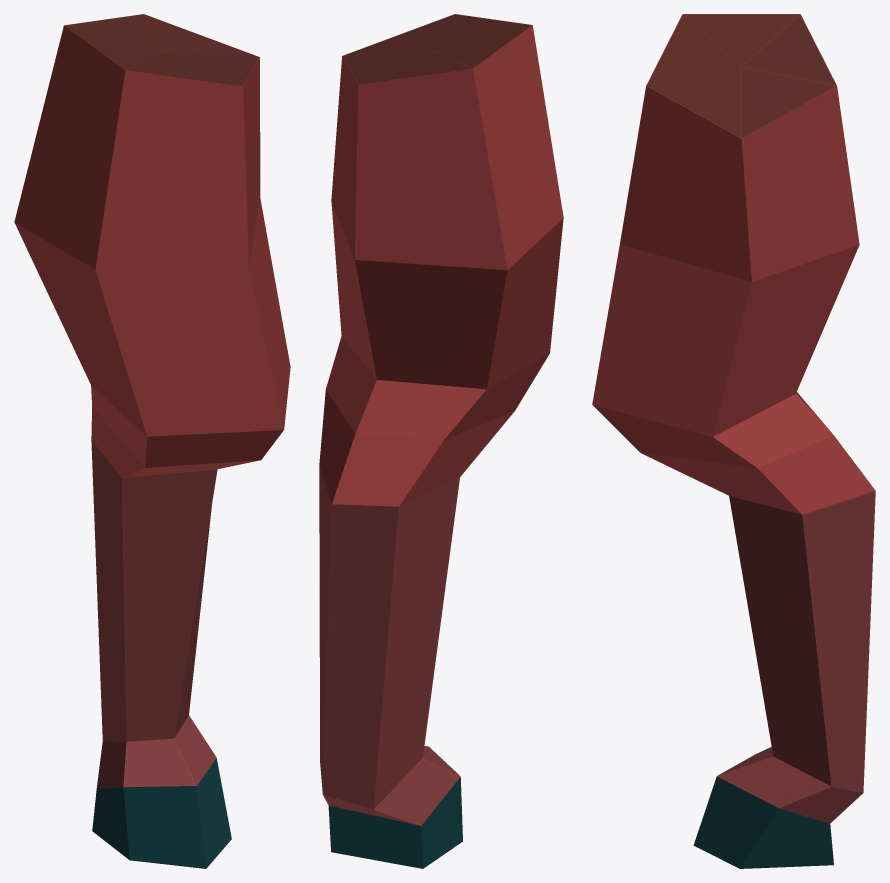
Rendered from New_HorseLeg.fbx.
3 views of the same model, side by side, from view 1: azimuth 30°, elevation 25°; view 2: azimuth 150°, elevation 25°; view 3: azimuth 270°, elevation 25° (orthographic). The views are drawn at different scales.
Visible parts, largest first — view 1: Jalka2; view 2: Jalka2; view 3: Jalka2.
Boxes of the visible parts, box(x1,y1,x2,y2) form: Jalka2: box(14, 14, 290, 868); Jalka2: box(319, 14, 563, 868); Jalka2: box(592, 14, 875, 868).
Size of the model in its own units: 1.44 by 5.09 by 1.65.
